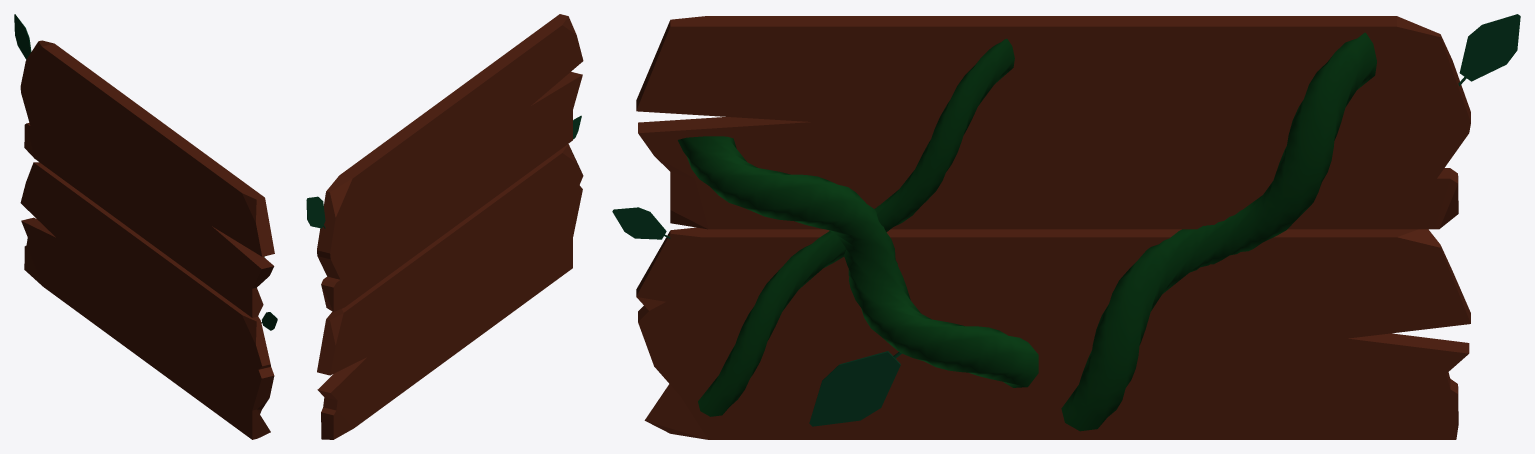
File: Leana6.fbx
3 renders of one model, left to right at view 1: azimuth 30°, elevation 25°; view 2: azimuth 150°, elevation 25°; view 3: azimuth 270°, elevation 25°, orthographic. The views are drawn at different scales.
Visible parts, largest first — view 1: Cube.001, Circle.003; view 2: Cube.001, Circle.003; view 3: Cube.001, Circle.003.
Boxes of the visible parts, box(x1,y1,x2,y2) form: Cube.001: box(20, 40, 274, 439); Circle.003: box(14, 14, 277, 330); Cube.001: box(317, 14, 583, 439); Circle.003: box(306, 115, 581, 228); Cube.001: box(636, 16, 1470, 439); Circle.003: box(612, 14, 1520, 431).
Size of the model in its own units: 48.81 by 416 by 812.
